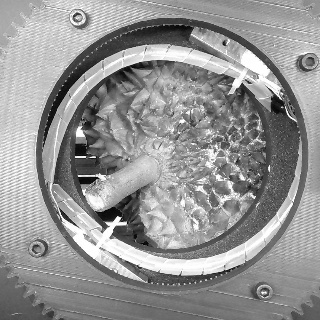base: (135, 148, 173, 188)
end: (85, 190, 106, 212)
